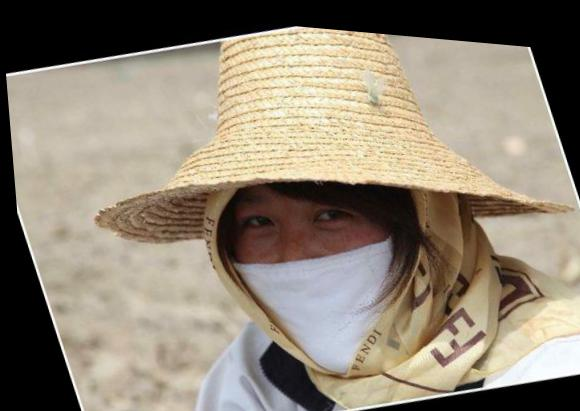WRONG: (206, 133, 443, 395)
